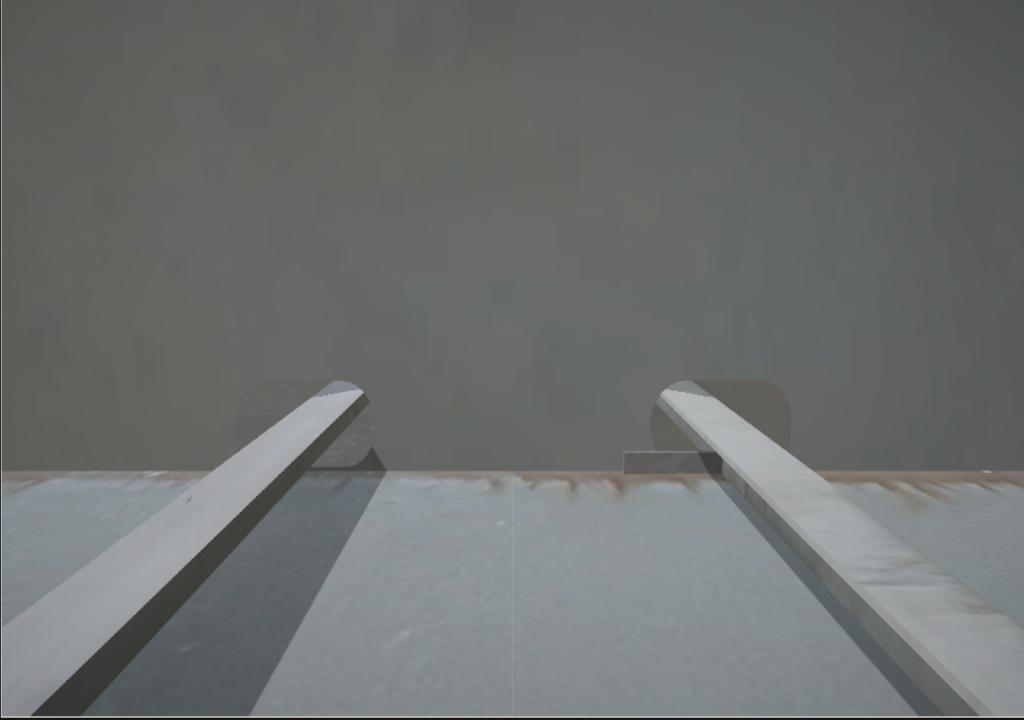fillet_yong_jeop_jang: (309, 465, 629, 478)
plate_CP01: (625, 450, 724, 474)
